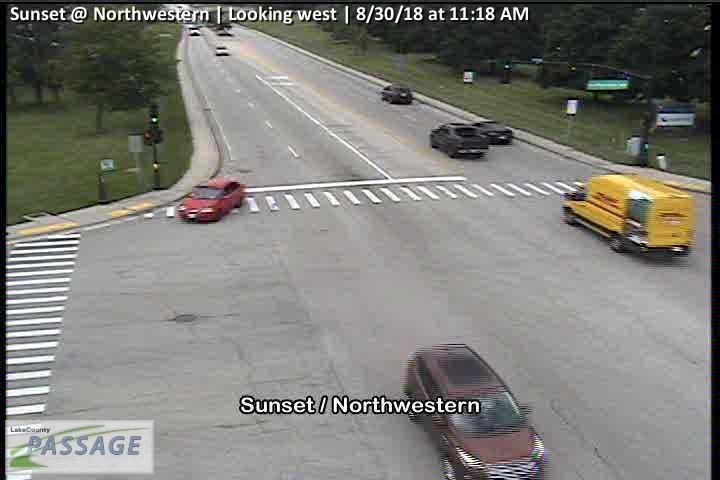SUV: (405, 342, 544, 480), (431, 123, 488, 161), (380, 85, 411, 104)
Sedan: (176, 175, 245, 220), (475, 121, 513, 146)
Truck: (562, 173, 695, 254)
